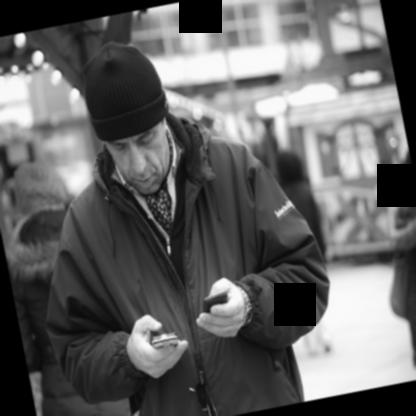handbag: (388, 252, 409, 320)
